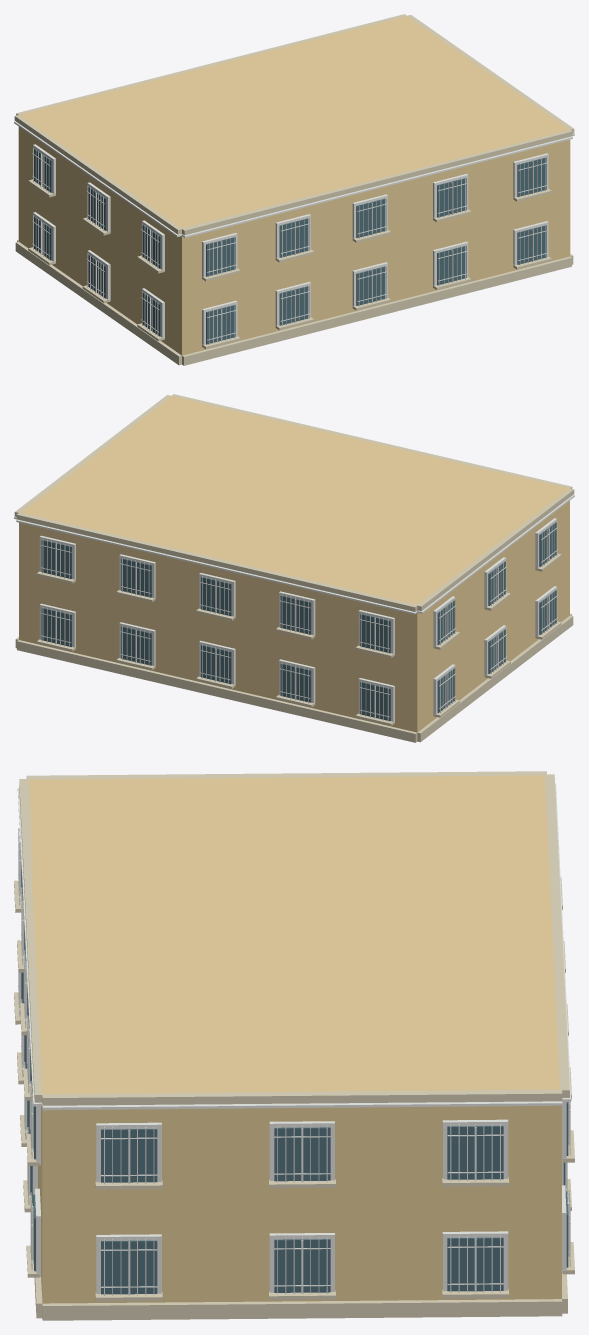
Rendered from njesia-2.glb.
3 views of the same model, one above another, from view 1: azimuth 30°, elevation 25°; view 2: azimuth 150°, elevation 25°; view 3: azimuth 270°, elevation 25° (orthographic). The views are drawn at different scales.
Parts seen in each view (by area): view 1: njesia-2 yellow, njesia-2 cream, njesia-2 white, njesia-2 glass; view 2: njesia-2 yellow, njesia-2 cream, njesia-2 white, njesia-2 glass; view 3: njesia-2 yellow, njesia-2 cream, njesia-2 white, njesia-2 glass.
Part boxes in pixels (bbox=[...]): njesia-2 yellow: bbox=[18, 16, 570, 355]; njesia-2 cream: bbox=[14, 14, 574, 365]; njesia-2 white: bbox=[14, 121, 574, 344]; njesia-2 glass: bbox=[34, 148, 546, 344]; njesia-2 yellow: bbox=[19, 396, 569, 732]; njesia-2 cream: bbox=[14, 394, 574, 742]; njesia-2 white: bbox=[14, 494, 574, 721]; njesia-2 glass: bbox=[41, 522, 556, 721]; njesia-2 yellow: bbox=[27, 774, 561, 1303]; njesia-2 cream: bbox=[14, 771, 574, 1320]; njesia-2 white: bbox=[17, 783, 571, 1295]; njesia-2 glass: bbox=[21, 865, 568, 1294].
Size of the model in its own units: 22.25 by 7 by 15.93.
